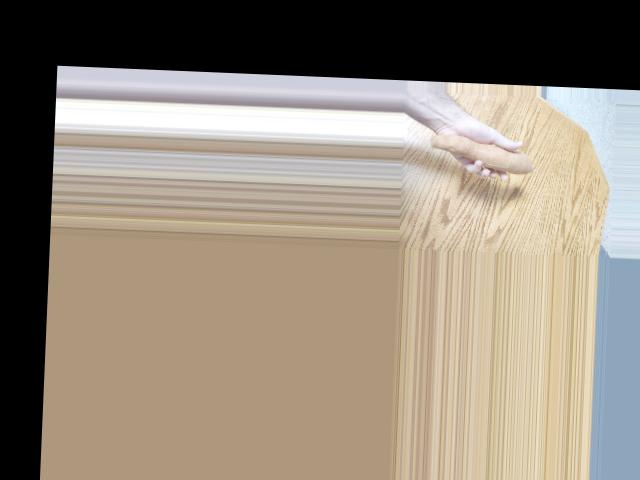sweet_potato: (431, 132, 536, 175)
